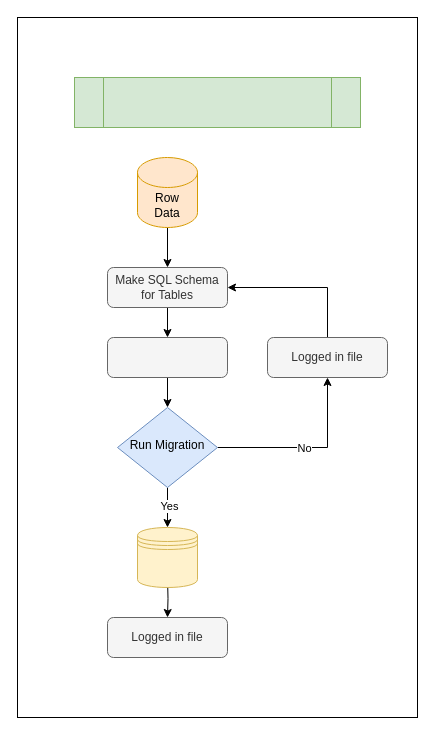
Some shapes in this 435 by 735 pixel diagram are drawn without their labels. Here are the shapes that lost their labels. From the top down, the centre of each, then its label:
[217,102]: Flow Chart
[167,357]: Clean Raw Data
[167,557]: Add in Database
